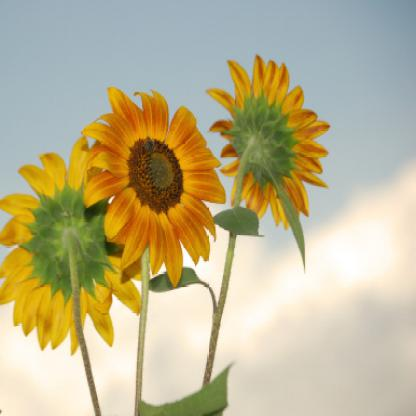SUN FLOWER: (5, 61, 340, 356)
